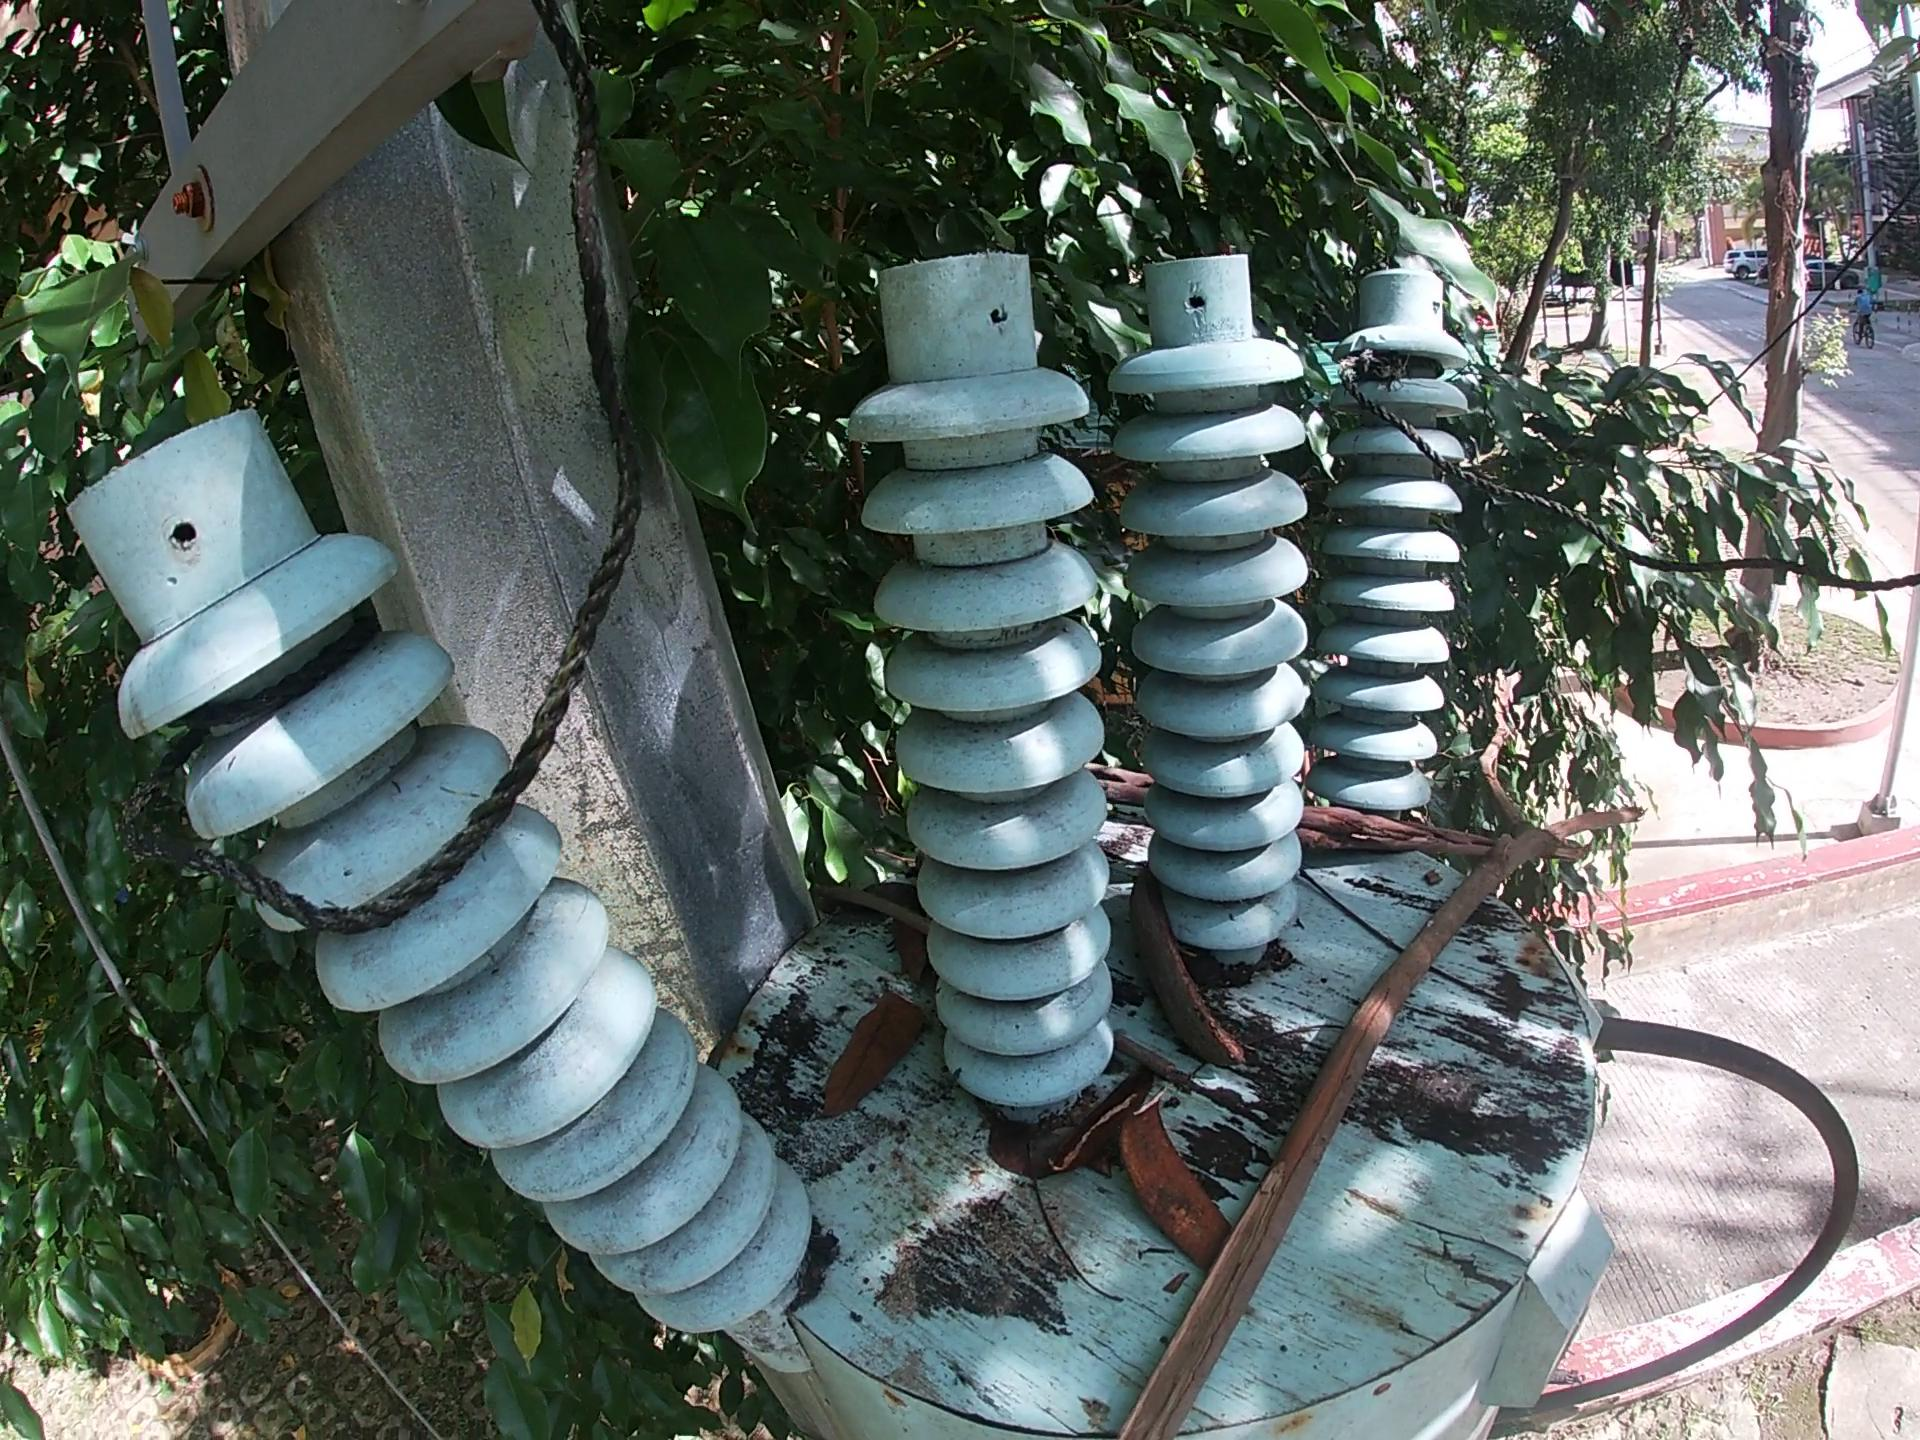leaf: (801, 1000, 925, 1148), (974, 1122, 1089, 1187), (887, 918, 924, 983)
mahogany fruit: (1128, 871, 1259, 1088), (1128, 864, 1259, 1072), (1113, 1088, 1228, 1263)
tree branch: (1082, 663, 1652, 1438), (1305, 871, 1518, 1023), (1023, 1193, 1117, 1311), (1297, 811, 1501, 856), (884, 879, 954, 1000), (1125, 1038, 1212, 1103), (815, 885, 936, 929), (1081, 765, 1149, 793)
